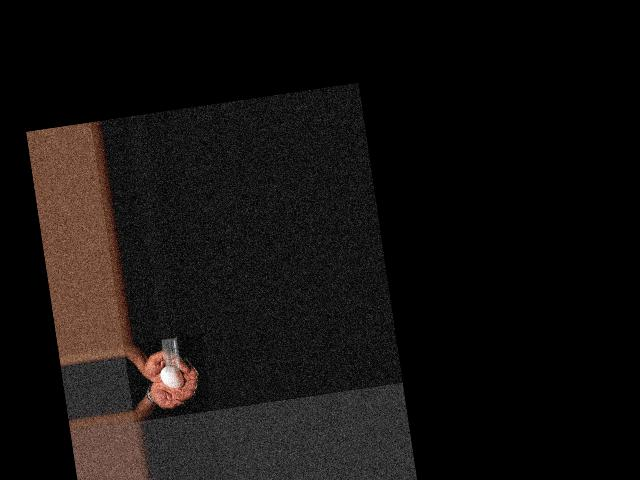egg: (159, 364, 185, 390)
